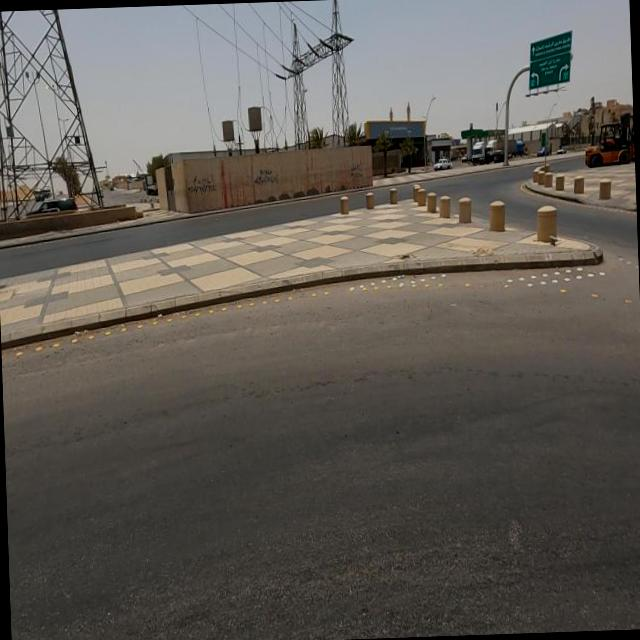debris: (156, 147, 240, 226), (223, 142, 309, 216), (329, 144, 384, 201)
